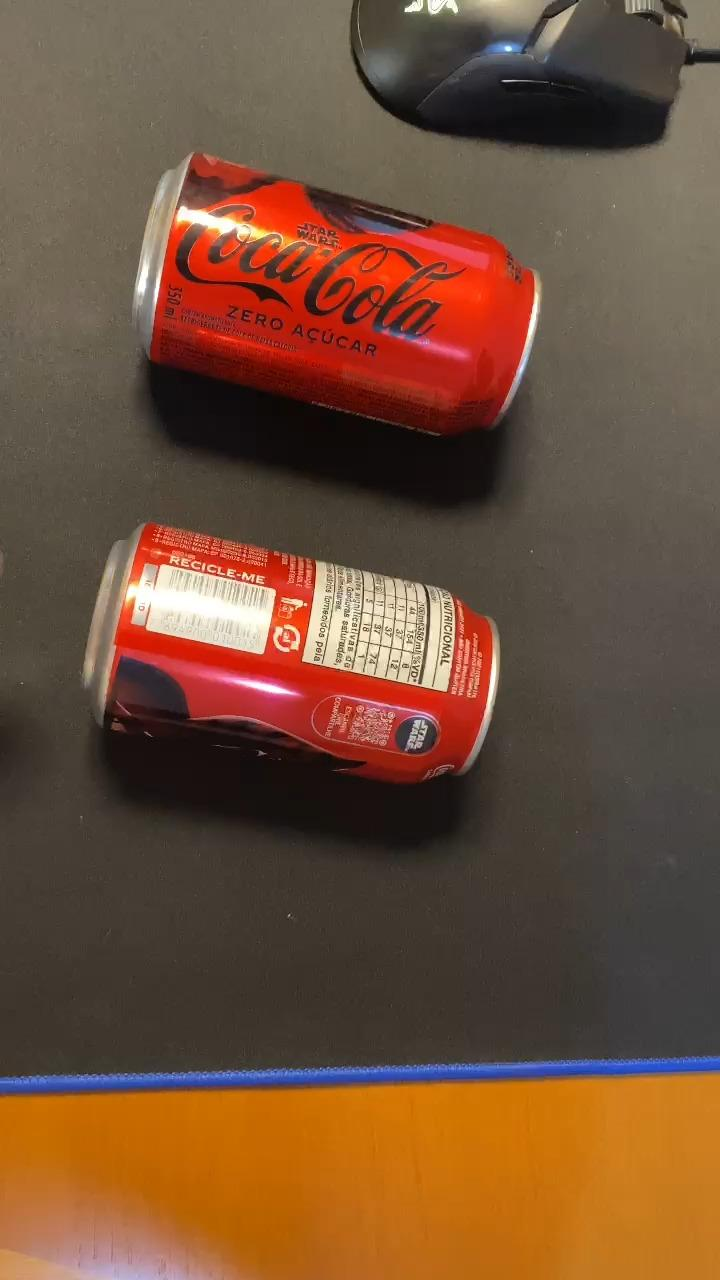coke: (131, 154, 547, 433), (84, 522, 506, 781)
